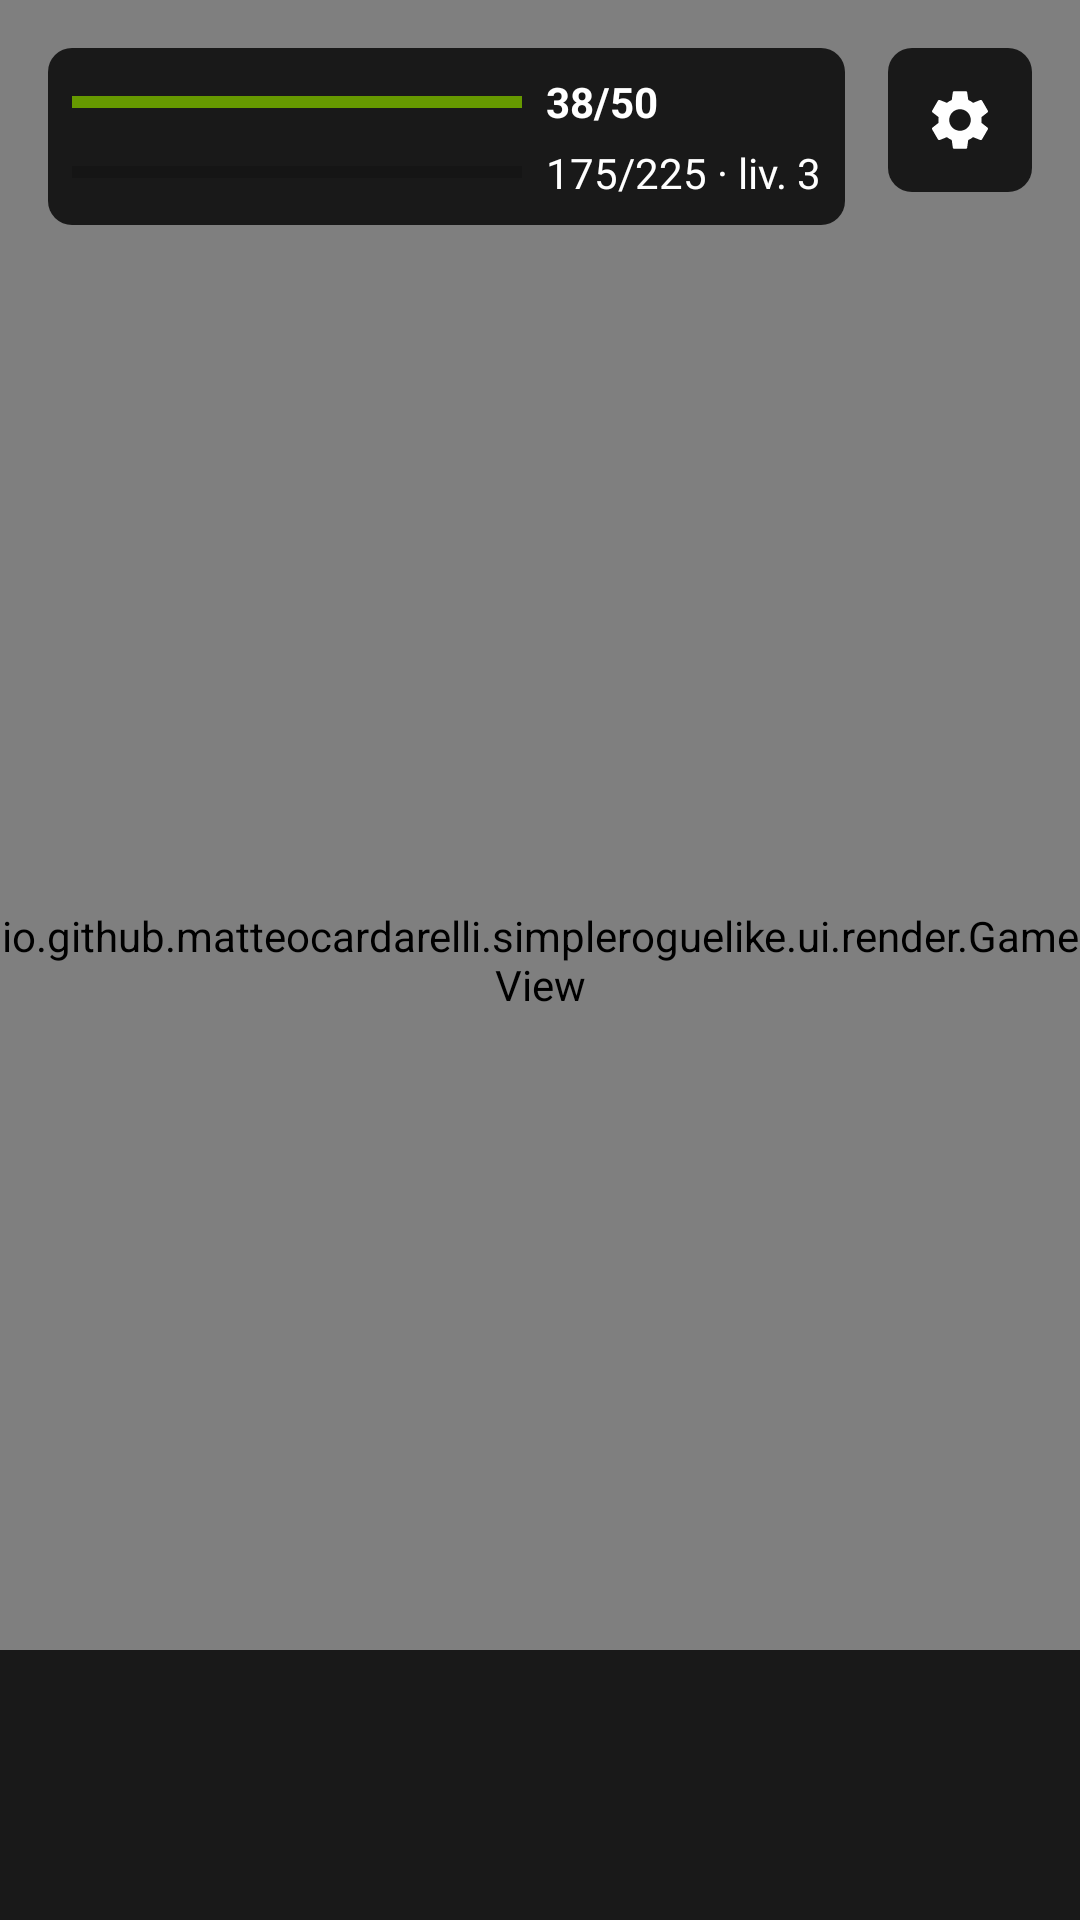

Screen size 1080×1920. Icon name, then its box in pixels as (x1, y1, x2, y2):
Impostazioni: (888, 48, 1032, 192)
